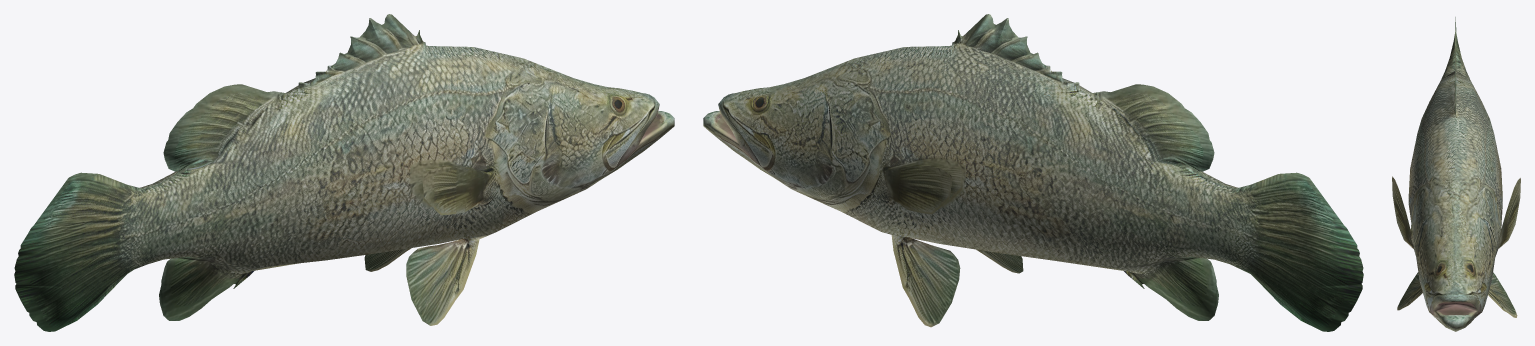
The model's file is nileperch.glb.
3 views of the same model, side by side, from view 1: azimuth 30°, elevation 25°; view 2: azimuth 150°, elevation 25°; view 3: azimuth 270°, elevation 25° (orthographic). The views are drawn at different scales.
Parts seen in each view (by area): view 1: tripo_node_89ef9df1-8036-4853-92cd-71a711c80c58; view 2: tripo_node_89ef9df1-8036-4853-92cd-71a711c80c58; view 3: tripo_node_89ef9df1-8036-4853-92cd-71a711c80c58.
Part boxes in pixels (box(x1,y1,x2,y2)): tripo_node_89ef9df1-8036-4853-92cd-71a711c80c58: box(14, 14, 674, 331); tripo_node_89ef9df1-8036-4853-92cd-71a711c80c58: box(703, 14, 1363, 331); tripo_node_89ef9df1-8036-4853-92cd-71a711c80c58: box(1392, 17, 1520, 331).
Bounding box in the file's own units: 0.9995 × 0.4224 × 0.2085.
1 material, 1 textured.
